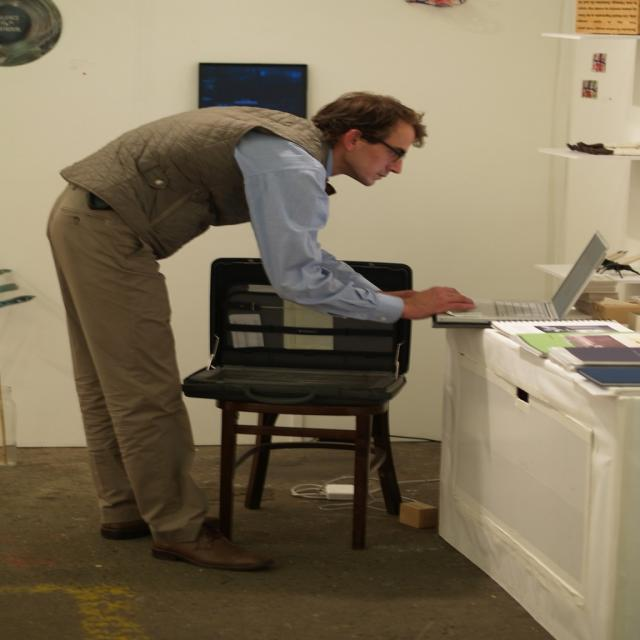chair: (183, 258, 412, 553)
desk: (440, 306, 640, 598)
laptop: (435, 230, 613, 324)
person: (48, 81, 472, 574)
